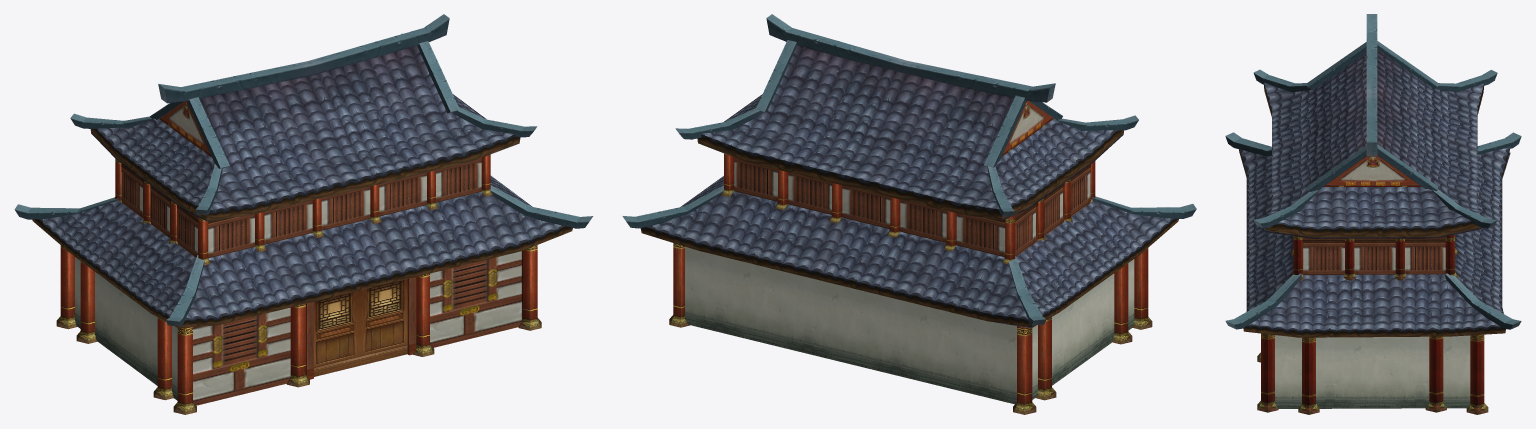
File: szc_building_09a_wa.FBX
3 renders of one model, left to right at view 1: azimuth 30°, elevation 25°; view 2: azimuth 150°, elevation 25°; view 3: azimuth 270°, elevation 25°, orthographic. The views are drawn at different scales.
Visible parts, largest first — view 1: r; view 2: r; view 3: r.
Boxes of the visible parts, x1=… form: r: x1=14, y1=14, x2=593, y2=414; r: x1=622, y1=14, x2=1196, y2=414; r: x1=1225, y1=14, x2=1521, y2=414.
Bounding box in the file's own units: 1069 × 656 × 696.
